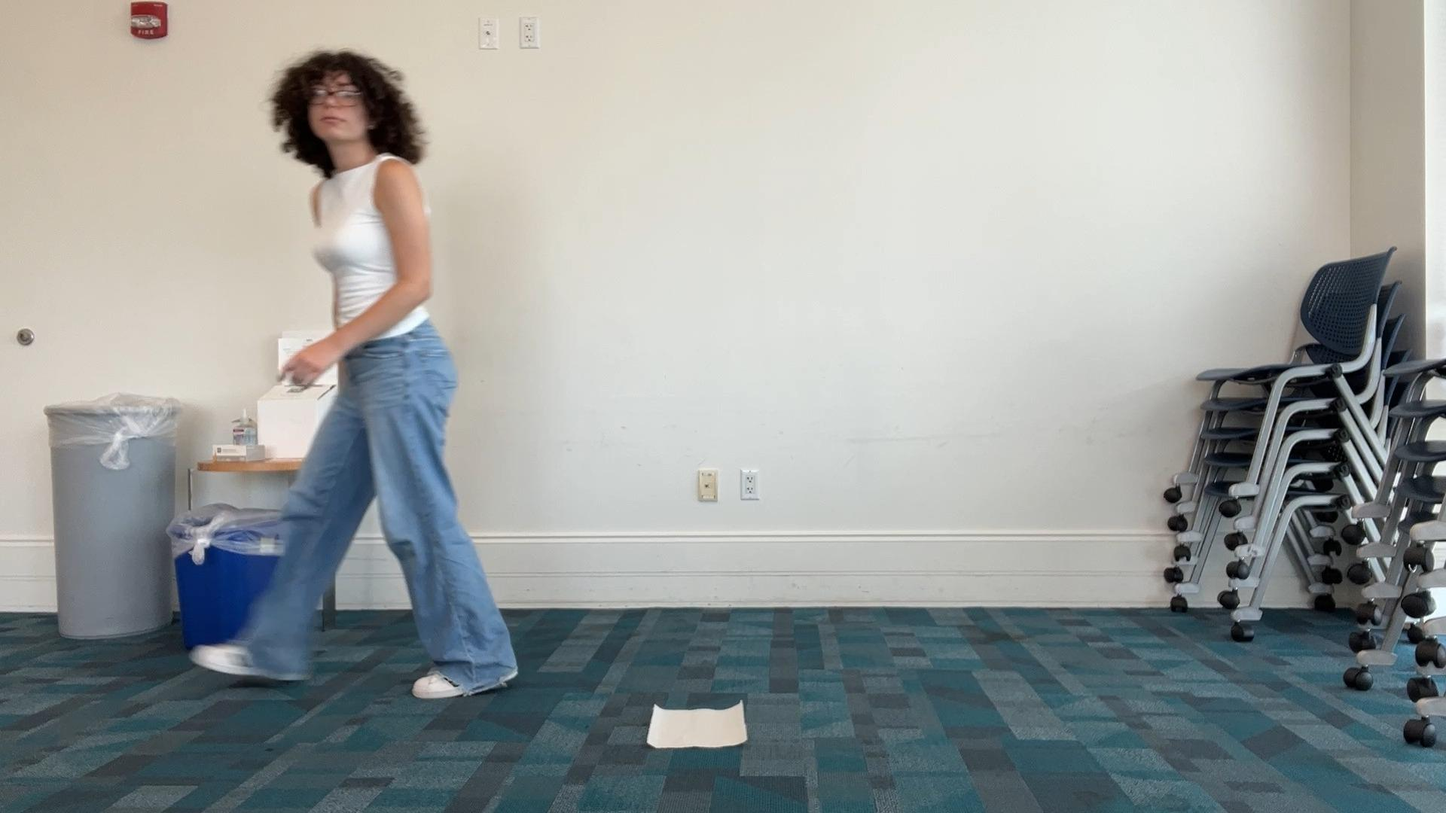Trash: (633, 678, 764, 771)
